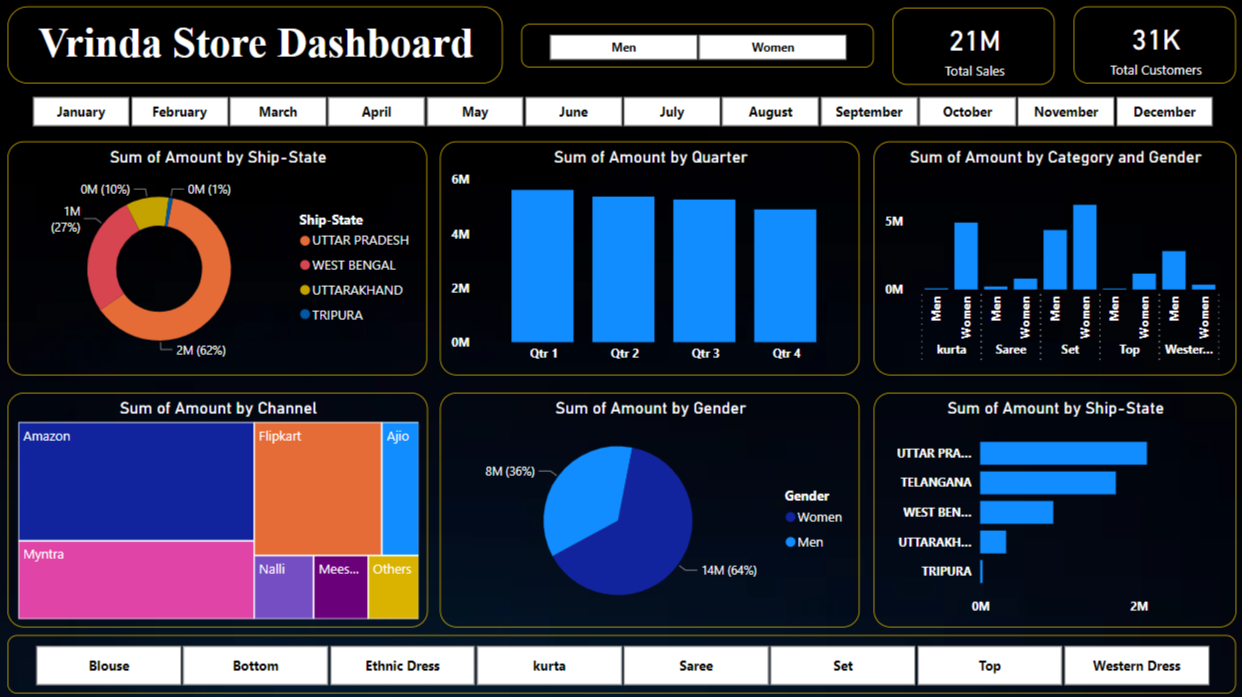

This screenshot's page, from the dashboard's own definition file:
{"tool":"powerbi","page":{"name":"Page 1","canvas":[1280,720],"ordinal":0},"visuals":[{"type":"textbox","box":[10.3,9,507.7,79.5],"z":0},{"type":"card","fields":{"Values":["Sum(Table1.Amount)"]},"box":[917.9,10.3,166.7,79.5],"z":1000},{"type":"card","fields":{"Values":["CountNonNull(Table1.Cust ID)"]},"box":[1103.8,9,166.7,79.5],"z":2000},{"type":"slicer","fields":{"Values":["Table1.Gender"]},"box":[537.2,26.9,361.5,44.9],"z":3000},{"type":"slicer","fields":{"Values":["Table1.Date.Variation.Date Hierarchy.Month"]},"box":[10.3,94.9,1260.3,43.6],"z":4000},{"type":"columnChart","fields":{"Category":["Table1.Date.Variation.Date Hierarchy.Quarter"],"Y":["Sum(Table1.Amount)"]},"box":[453.8,147.4,430.8,239.7],"z":5000},{"type":"donutChart","fields":{"Y":["Sum(Table1.Amount)"],"Category":["Table1.Ship-State"]},"box":[10.3,147.4,430.8,239.7],"z":6000},{"type":"clusteredColumnChart","fields":{"Category":["Table1.Category","Table1.Gender"],"Y":["Sum(Table1.Amount)"]},"box":[898.7,147.4,371.8,239.7],"z":7000},{"type":"clusteredBarChart","fields":{"Y":["Sum(Table1.Amount)"],"Category":["Table1.Ship-State"]},"box":[898.7,405.1,371.8,241],"z":8000},{"type":"pieChart","fields":{"Y":["Sum(Table1.Amount)"],"Category":["Table1.Gender"]},"box":[453.8,405.1,430.8,241],"z":9000},{"type":"treemap","fields":{"Group":["Table1.Channel "],"Values":["Sum(Table1.Amount)"]},"box":[10,405,431,241],"z":9001},{"type":"slicer","fields":{"Values":["Table1.Category"]},"box":[10.3,653.8,1260.3,60.3],"z":9002}]}

Visuals, with their boxes in screenshot pixels (x1, y1, x2, y2), scaled from the page's 1280x720 canvas onto the 1242x697 screenshot:
textbox: box(10, 9, 503, 86)
card - Sum(Table1.Amount): box(891, 10, 1052, 87)
card - CountNonNull(Table1.Cust ID): box(1071, 9, 1233, 86)
slicer - Table1.Gender: box(521, 26, 872, 70)
slicer - Table1.Date.Variation.Date Hierarchy.Month: box(10, 92, 1233, 134)
columnChart - Table1.Date.Variation.Date Hierarchy.Quarter x Sum(Table1.Amount): box(440, 143, 858, 375)
donutChart - Sum(Table1.Amount) x Table1.Ship-State: box(10, 143, 428, 375)
clusteredColumnChart - Table1.Category x Table1.Gender: box(872, 143, 1233, 375)
clusteredBarChart - Sum(Table1.Amount) x Table1.Ship-State: box(872, 392, 1233, 625)
pieChart - Sum(Table1.Amount) x Table1.Gender: box(440, 392, 858, 625)
treemap - Table1.Channel  x Sum(Table1.Amount): box(10, 392, 428, 625)
slicer - Table1.Category: box(10, 633, 1233, 691)
